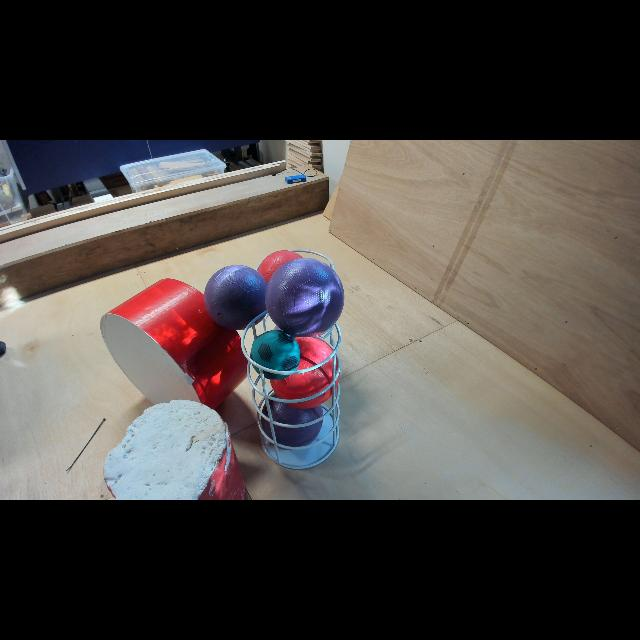P: (264, 258, 346, 338), (203, 264, 271, 332), (259, 391, 325, 452)
R: (267, 332, 345, 412), (254, 248, 314, 308)
S: (241, 306, 343, 472)
